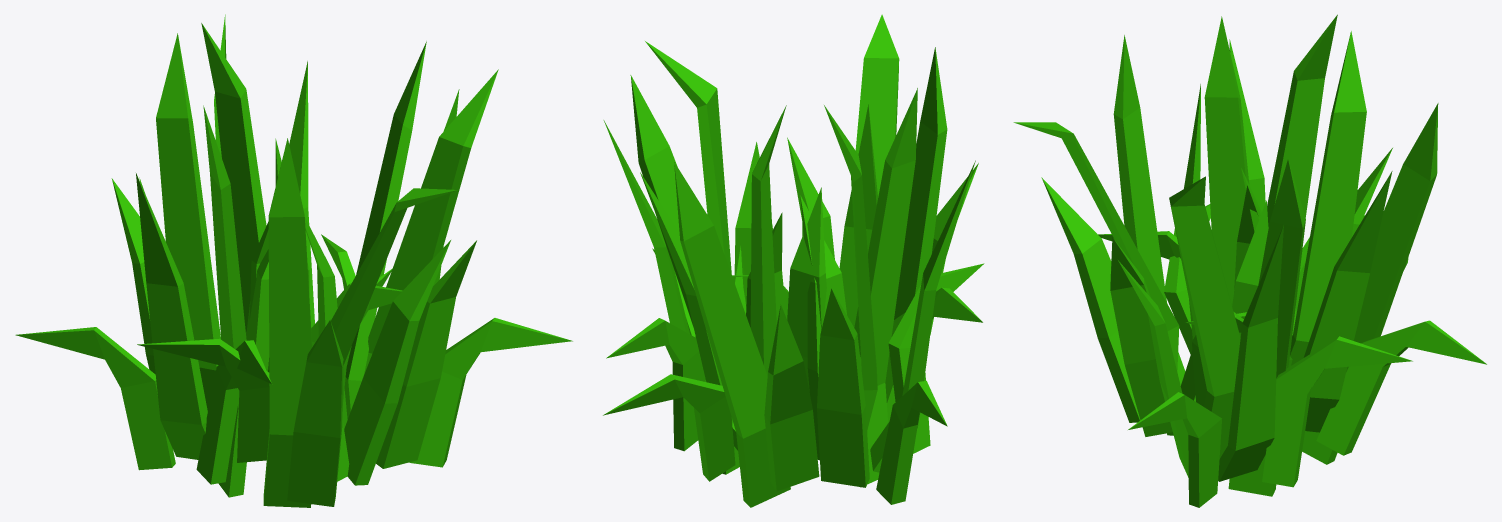
File: Grass_3.fbx
The picture shows the model from 3 angles, left to right: view 1: azimuth 30°, elevation 25°; view 2: azimuth 150°, elevation 25°; view 3: azimuth 270°, elevation 25°; orthographic projection. The views are drawn at different scales.
Visible parts, largest first — view 1: Grass Large; view 2: Grass Large; view 3: Grass Large.
Part boxes in pixels (x1,y1,x2,y2): Grass Large: (15, 14, 572, 507); Grass Large: (603, 14, 984, 507); Grass Large: (1013, 14, 1486, 507).
Bounding box in the file's own units: 43.33 × 41.9 × 43.41.
